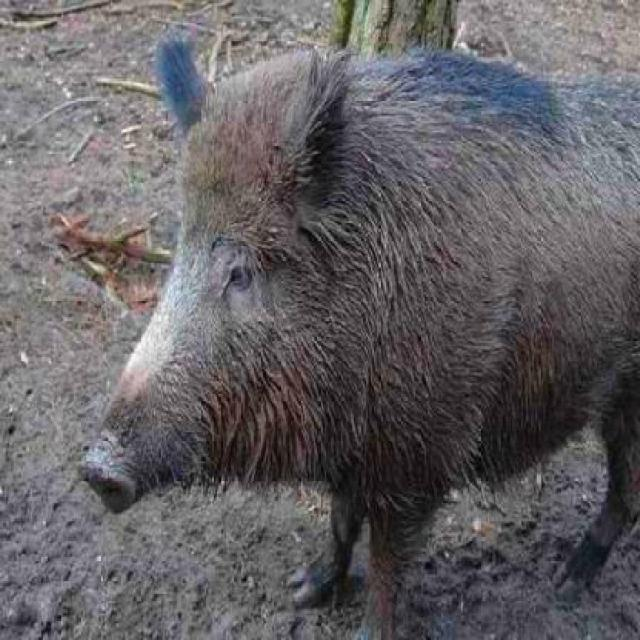Boar: (75, 64, 619, 594)
